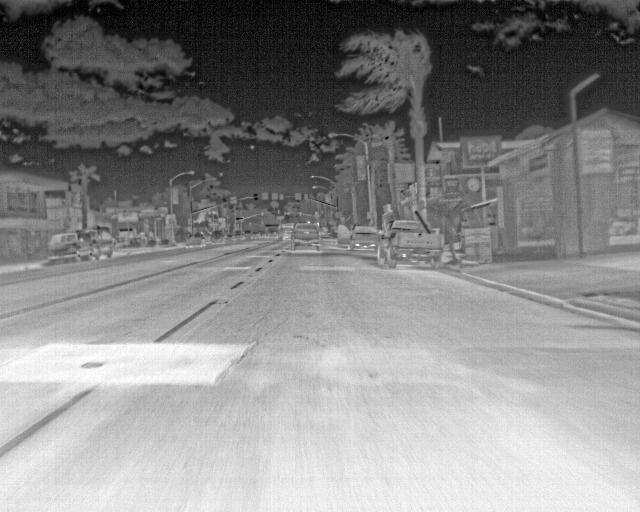car: (374, 219, 444, 272), (333, 223, 378, 252), (45, 233, 84, 264), (83, 228, 113, 260), (292, 220, 320, 252), (185, 233, 205, 250), (210, 228, 226, 245), (319, 224, 332, 240), (233, 229, 245, 241), (243, 229, 254, 240), (251, 230, 262, 240)
